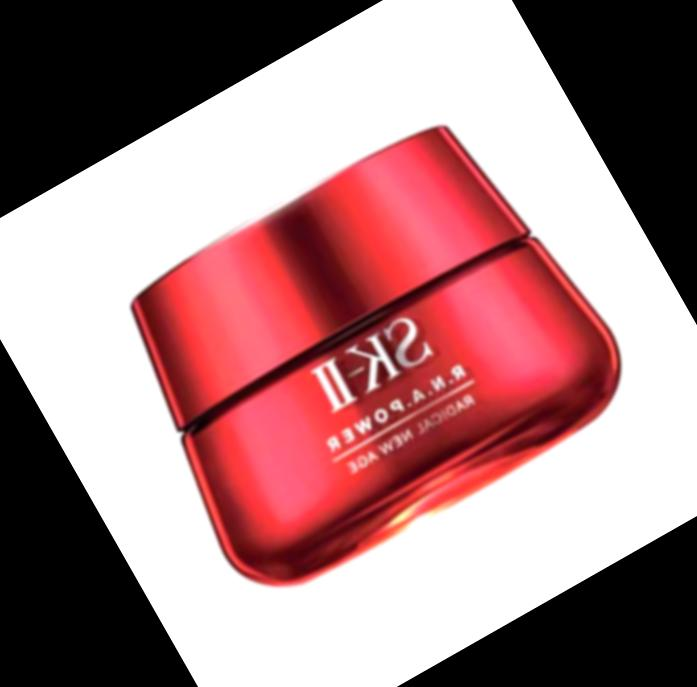cosmetic: (98, 100, 630, 599)
